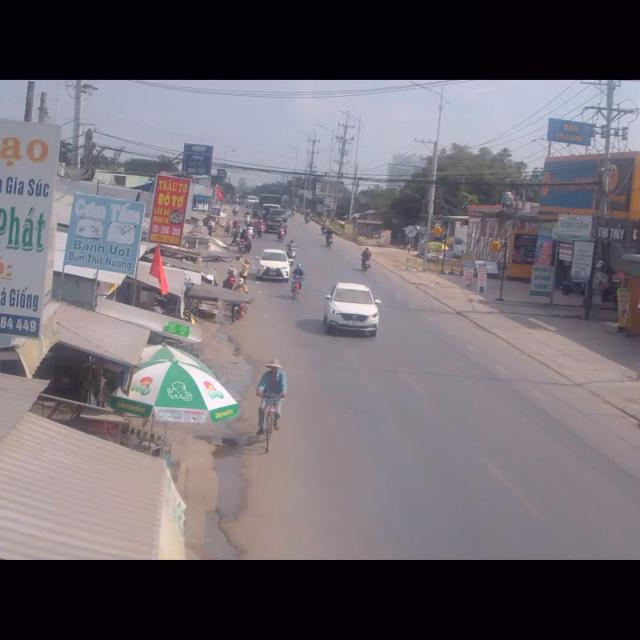car: (322, 279, 385, 340), (257, 250, 290, 284)
motorbike: (290, 262, 304, 296), (359, 246, 371, 272)
